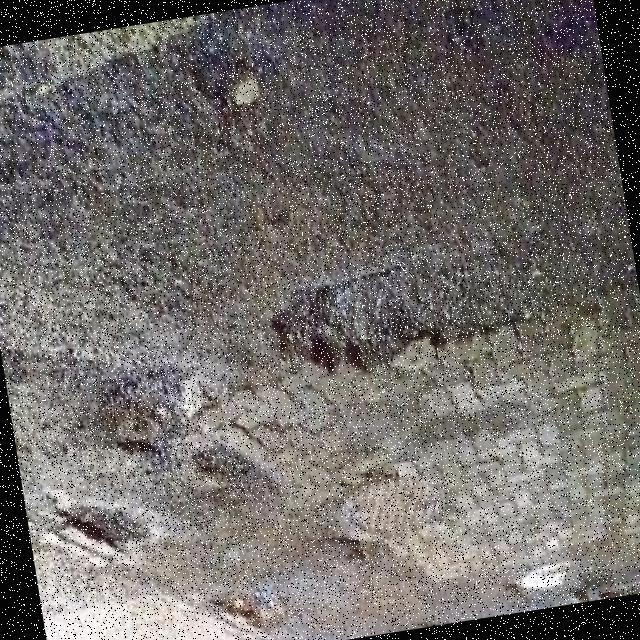Pothole: (273, 248, 531, 369)
